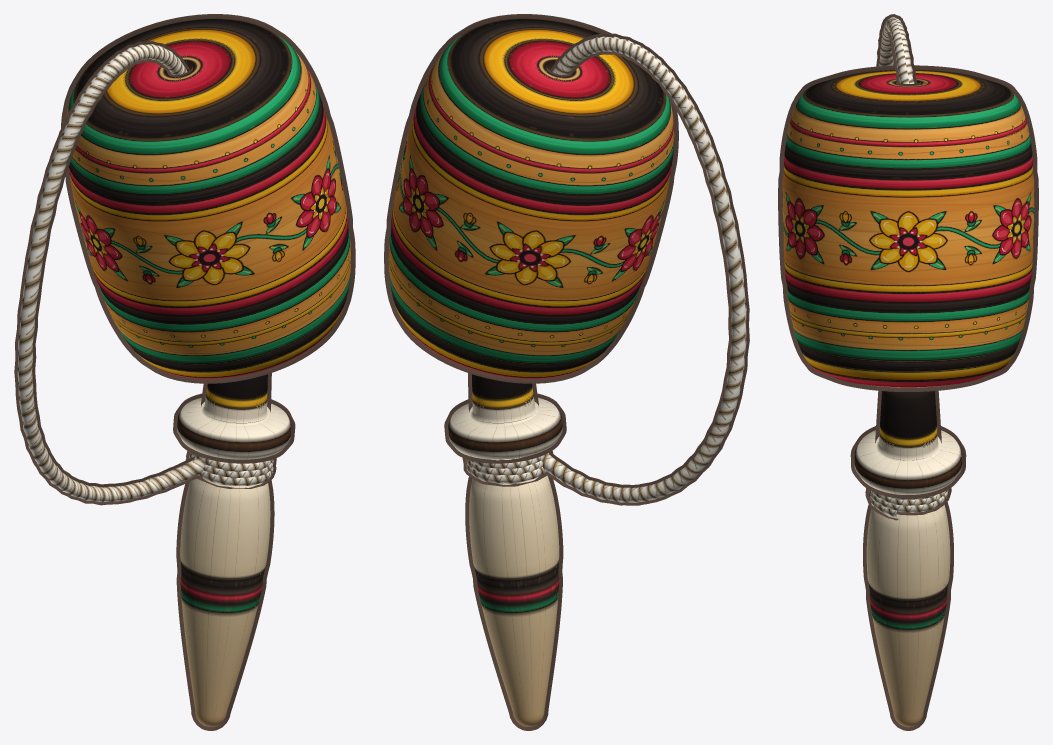
File: balero.glb
The picture shows the model from 3 angles, left to right: view 1: azimuth 30°, elevation 25°; view 2: azimuth 150°, elevation 25°; view 3: azimuth 270°, elevation 25°; orthographic projection. The views are drawn at different scales.
Parts seen in each view (by area): view 1: Balero_Barril, Balero_Mango, Balero_Cordon; view 2: Balero_Barril, Balero_Mango, Balero_Cordon; view 3: Balero_Barril, Balero_Mango, Balero_Cordon.
Boxes of the visible parts, box(x1,y1,x2,y2) form: Balero_Barril: box(61, 14, 355, 383); Balero_Mango: box(173, 373, 295, 730); Balero_Cordon: box(14, 41, 276, 505); Balero_Barril: box(384, 14, 678, 383); Balero_Mango: box(444, 373, 566, 730); Balero_Cordon: box(462, 33, 749, 505); Balero_Barril: box(778, 65, 1038, 391); Balero_Mango: box(850, 390, 966, 730); Balero_Cordon: box(865, 14, 951, 520).
Size of the model in its own units: 2.3 by 4.66 by 1.64.
Materials: 2 (1 with a texture image).
